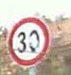limite 30: (5, 14, 53, 67)
